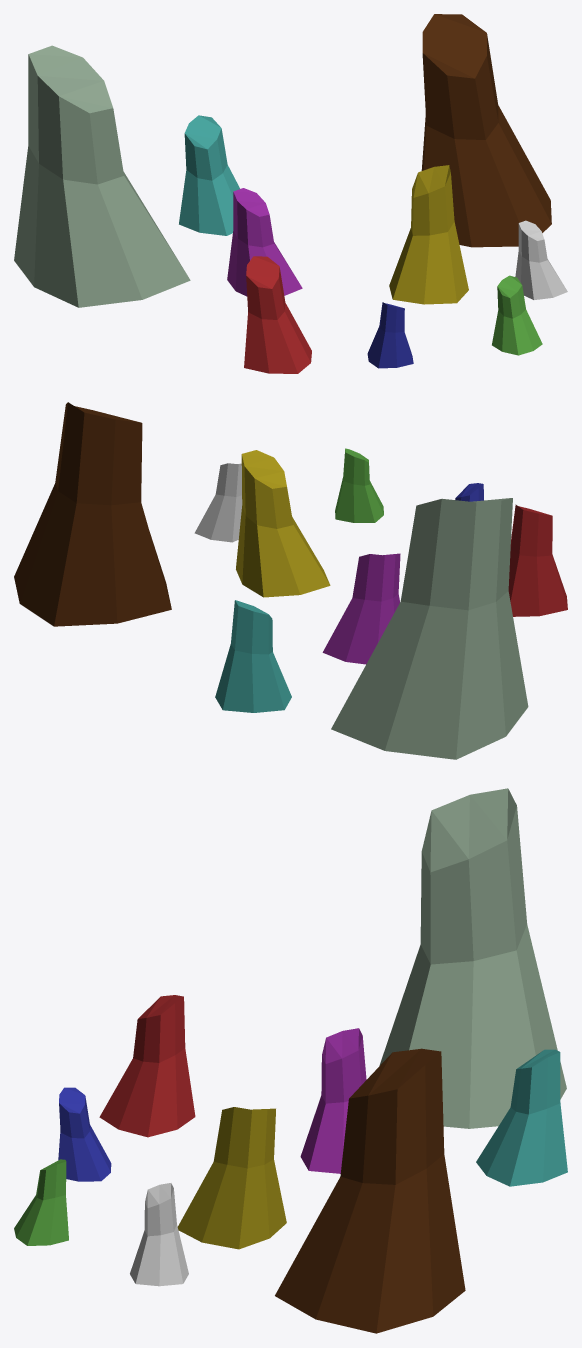
File: rocks.obj
The picture shows the model from 3 angles, top to bottom: view 1: azimuth 30°, elevation 25°; view 2: azimuth 150°, elevation 25°; view 3: azimuth 270°, elevation 25°; orthographic projection. The views are drawn at different scales.
Visible parts, largest first — view 1: Cube.005_Cube.007, Cube.003_Cube.005, Cube.001_Cube.003, Cube.007_Cube.009, Cube_Cube.002, Cube.004_Cube.006, Cube.008_Cube.010, Cube.006_Cube.008, Cube.002_Cube.004; view 2: Cube.005_Cube.007, Cube.003_Cube.005, Cube.001_Cube.003, Cube_Cube.002, Cube.004_Cube.006, Cube.007_Cube.009, Cube.008_Cube.010, Cube.006_Cube.008; view 3: Cube.005_Cube.007, Cube.003_Cube.005, Cube.001_Cube.003, Cube.007_Cube.009, Cube_Cube.002, Cube.004_Cube.006, Cube.006_Cube.008, Cube.002_Cube.004, Cube.008_Cube.010.
Part boxes in pixels (x1=…): Cube.005_Cube.007: x1=14, y1=45, x2=190, y2=307; Cube.003_Cube.005: x1=421, y1=14, x2=551, y2=247; Cube.001_Cube.003: x1=389, y1=165, x2=468, y2=304; Cube.007_Cube.009: x1=244, y1=256, x2=311, y2=373; Cube_Cube.002: x1=179, y1=115, x2=239, y2=235; Cube.004_Cube.006: x1=227, y1=188, x2=302, y2=296; Cube.008_Cube.010: x1=492, y1=275, x2=542, y2=355; Cube.006_Cube.008: x1=515, y1=220, x2=567, y2=299; Cube.002_Cube.004: x1=367, y1=302, x2=413, y2=368; Cube.005_Cube.007: x1=331, y1=498, x2=528, y2=759; Cube.003_Cube.005: x1=14, y1=402, x2=171, y2=626; Cube.001_Cube.003: x1=236, y1=450, x2=330, y2=597; Cube_Cube.002: x1=215, y1=600, x2=291, y2=712; Cube.004_Cube.006: x1=322, y1=553, x2=400, y2=664; Cube.007_Cube.009: x1=508, y1=504, x2=567, y2=616; Cube.008_Cube.010: x1=335, y1=448, x2=383, y2=522; Cube.006_Cube.008: x1=194, y1=463, x2=242, y2=542; Cube.005_Cube.007: x1=379, y1=788, x2=566, y2=1128; Cube.003_Cube.005: x1=275, y1=1048, x2=465, y2=1333; Cube.001_Cube.003: x1=177, y1=1107, x2=286, y2=1249; Cube.007_Cube.009: x1=99, y1=995, x2=195, y2=1137; Cube_Cube.002: x1=476, y1=1049, x2=567, y2=1186; Cube.004_Cube.006: x1=300, y1=1028, x2=366, y2=1173; Cube.006_Cube.008: x1=130, y1=1183, x2=188, y2=1286; Cube.002_Cube.004: x1=58, y1=1087, x2=111, y2=1181; Cube.008_Cube.010: x1=14, y1=1159, x2=68, y2=1245.
Bounding box in the file's own units: 13.21 × 5.88 × 10.9.
